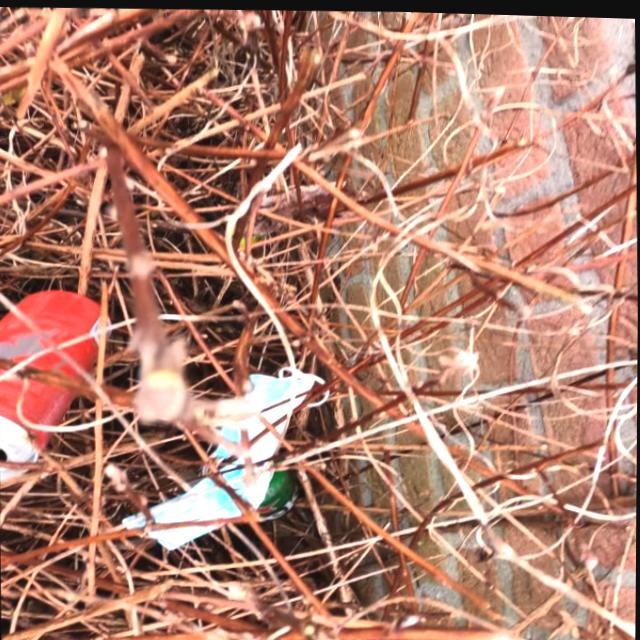Can-Metal: (0, 280, 119, 488)
Mask: (119, 356, 332, 555)
